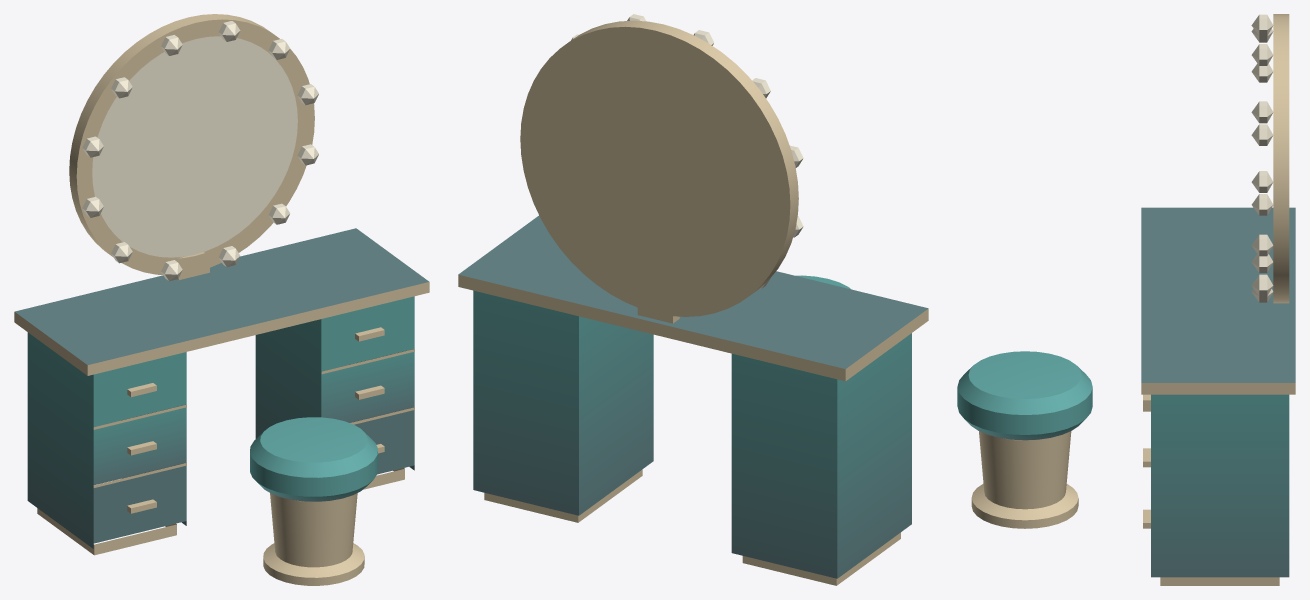
File: KC32__AD_Int_Vanity.glb
3 views of the same model, side by side, from view 1: azimuth 30°, elevation 25°; view 2: azimuth 150°, elevation 25°; view 3: azimuth 270°, elevation 25° (orthographic). The views are drawn at different scales.
Visible parts, largest first — view 1: KC32_CORPS__AD_Int_Vanity, KC32_LUMIERE__AD_Int_Vanity, KC32_BRONZE__AD_Int_Vanity; view 2: KC32_CORPS__AD_Int_Vanity, KC32_BRONZE__AD_Int_Vanity, KC32_LUMIERE__AD_Int_Vanity; view 3: KC32_CORPS__AD_Int_Vanity, KC32_BRONZE__AD_Int_Vanity, KC32_LUMIERE__AD_Int_Vanity.
Part boxes in pixels (x1=…): KC32_CORPS__AD_Int_Vanity: x1=15, y1=228, x2=429, y2=548; KC32_LUMIERE__AD_Int_Vanity: x1=82, y1=21, x2=318, y2=281; KC32_BRONZE__AD_Int_Vanity: x1=14, y1=14, x2=429, y2=585; KC32_CORPS__AD_Int_Vanity: x1=458, y1=215, x2=928, y2=578; KC32_BRONZE__AD_Int_Vanity: x1=458, y1=20, x2=928, y2=585; KC32_LUMIERE__AD_Int_Vanity: x1=571, y1=14, x2=803, y2=288; KC32_CORPS__AD_Int_Vanity: x1=957, y1=207, x2=1295, y2=577; KC32_BRONZE__AD_Int_Vanity: x1=971, y1=14, x2=1295, y2=585; KC32_LUMIERE__AD_Int_Vanity: x1=1251, y1=14, x2=1273, y2=302.
Size of the model in its own units: 1.32 by 1.68 by 1.07.
